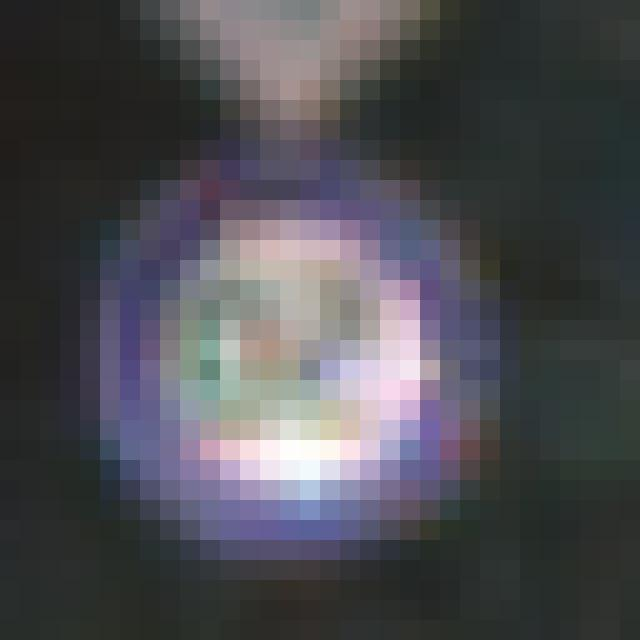SPEED LIMIT 50: (124, 126, 516, 520)
